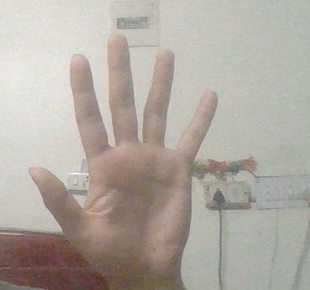move: (28, 34, 217, 290)
